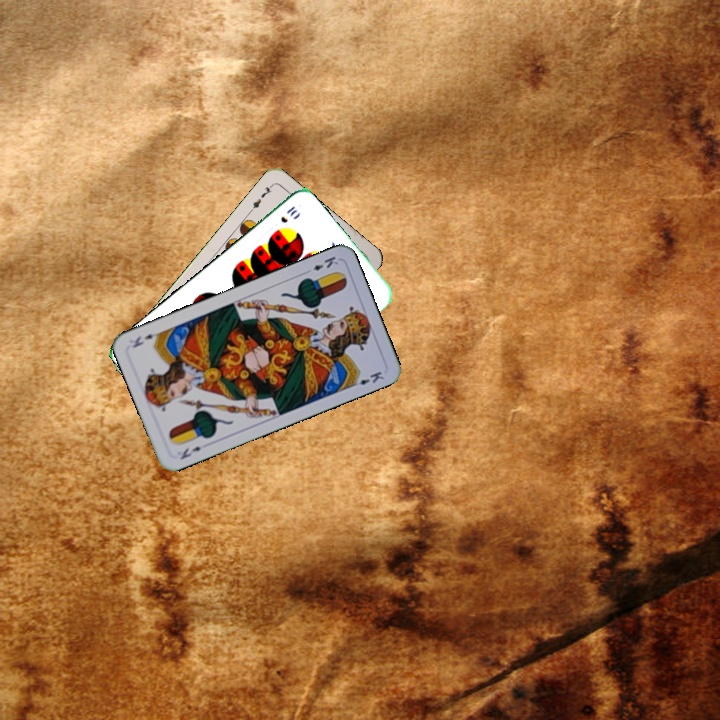E7: (245, 181, 275, 215)
EK: (301, 252, 341, 276), (176, 442, 204, 462)
S10: (277, 202, 300, 225)
